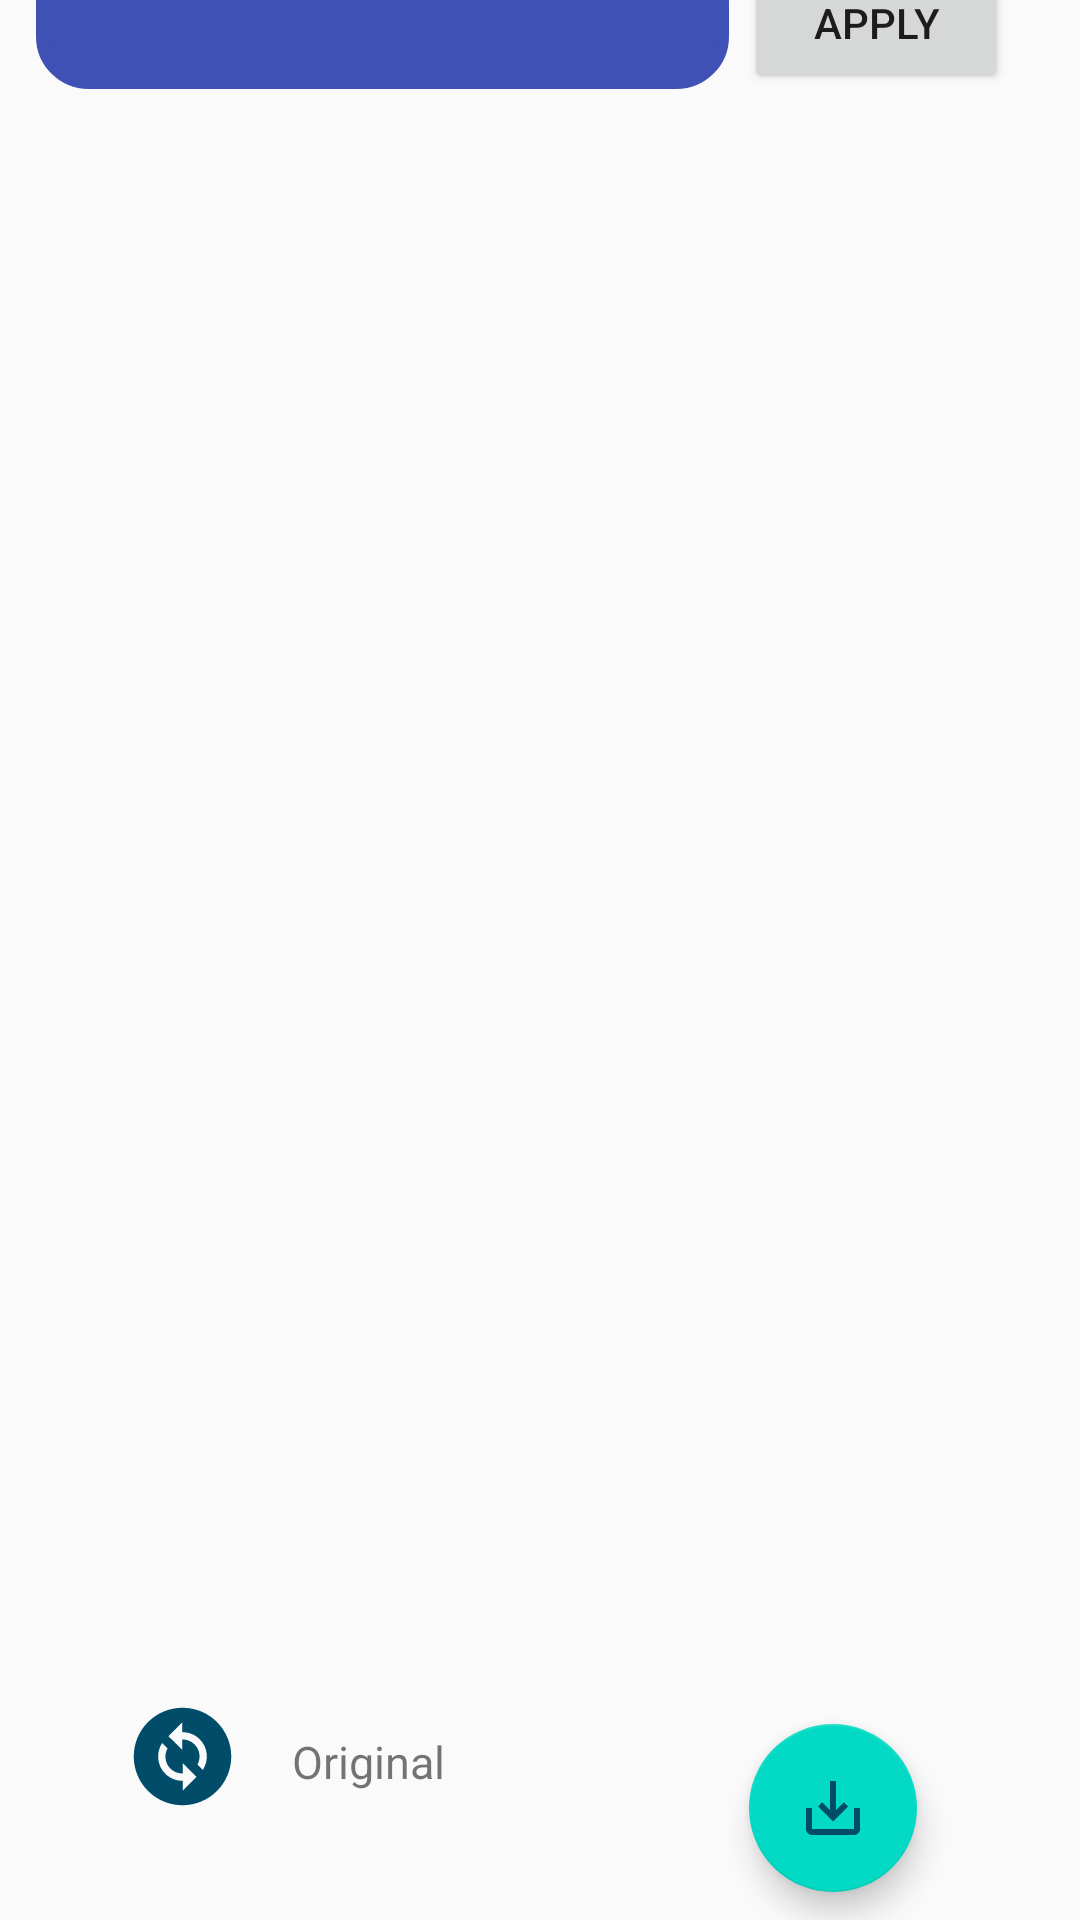

Icon bounding boxes for this 1080 × 1920 phone screenshot, format rect(x1, y1, x2, y2):
change: rect(133, 1707, 232, 1806)
save: rect(749, 1724, 917, 1892)
